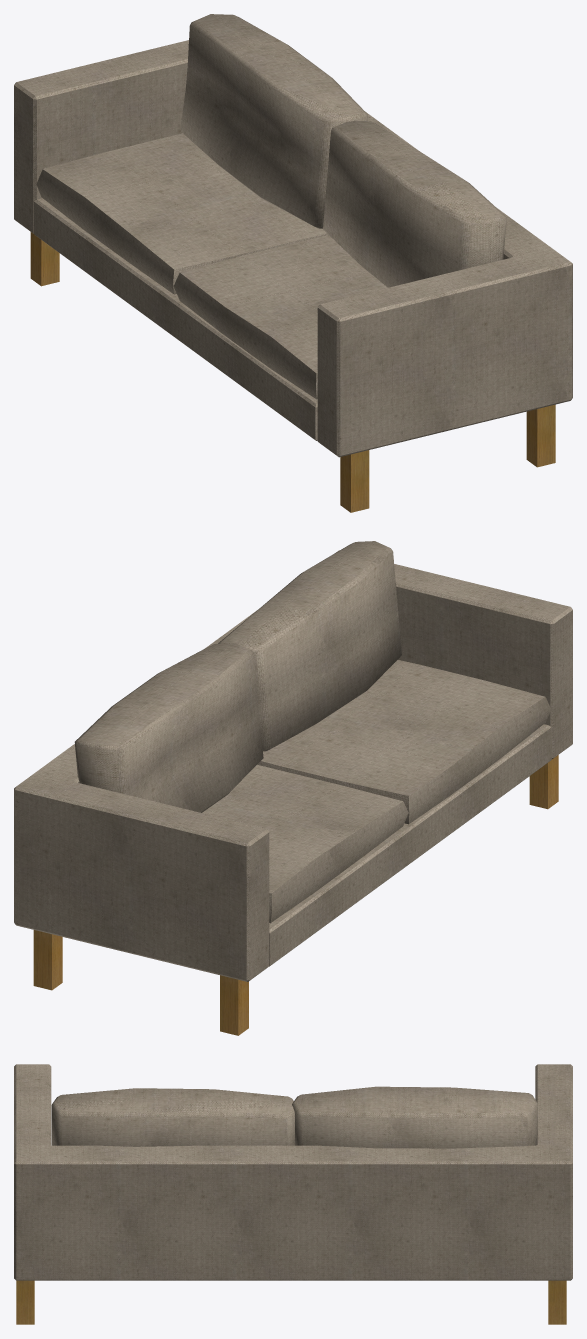
The model's file is Sofa.FBX.
3 views of the same model, one above another, from view 1: azimuth 30°, elevation 25°; view 2: azimuth 150°, elevation 25°; view 3: azimuth 270°, elevation 25° (orthographic). The views are drawn at different scales.
Parts seen in each view (by area): view 1: Sofa, Cushion-back-left, Cushion-bottom-left, Cushion-back-right, Cushion-bottom-right, Sofa-middle, Leg-002; view 2: Sofa, Cushion-bottom-right, Cushion-back-left, Cushion-back-right, Cushion-bottom-left, Sofa-middle, Leg-002; view 3: Sofa, Cushion-back-left, Cushion-back-right, Leg-002.
Part boxes in pixels (bbox=[...]): Sofa: bbox=[14, 40, 572, 457]; Cushion-back-left: bbox=[180, 14, 367, 228]; Cushion-bottom-left: bbox=[36, 133, 328, 294]; Cushion-back-right: bbox=[323, 120, 506, 287]; Cushion-bottom-right: bbox=[173, 235, 387, 399]; Sofa-middle: bbox=[33, 198, 317, 440]; Leg-002: bbox=[30, 232, 555, 512]; Sofa: bbox=[14, 550, 572, 981]; Cushion-bottom-right: bbox=[257, 660, 551, 824]; Cushion-back-left: bbox=[74, 643, 263, 812]; Cushion-back-right: bbox=[218, 541, 401, 751]; Cushion-bottom-left: bbox=[202, 764, 408, 923]; Sofa-middle: bbox=[269, 724, 551, 966]; Leg-002: bbox=[33, 755, 558, 1035]; Sofa: bbox=[14, 1064, 572, 1280]; Cushion-back-left: bbox=[292, 1086, 537, 1148]; Cushion-back-right: bbox=[51, 1088, 294, 1146]; Leg-002: bbox=[16, 1280, 566, 1324].
Size of the model in its own units: 20.62 by 20.25 by 49.15.
3 materials, 3 textured.
